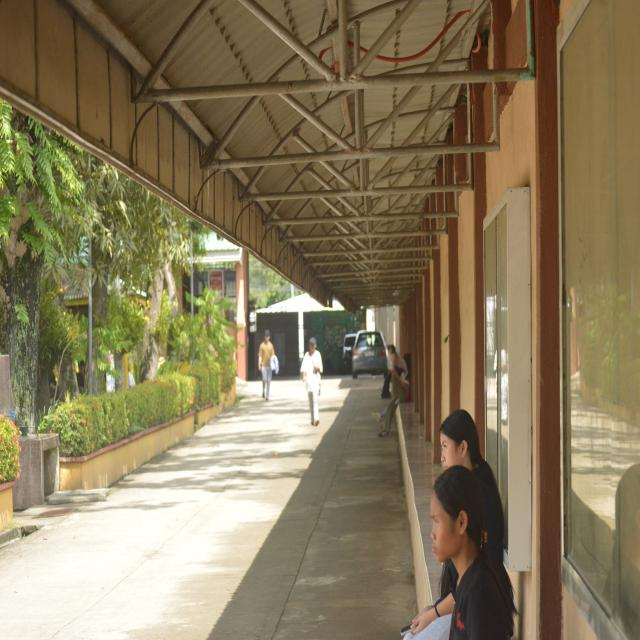person: (431, 465, 515, 639), (440, 410, 512, 598), (301, 337, 323, 426), (258, 330, 274, 400)
